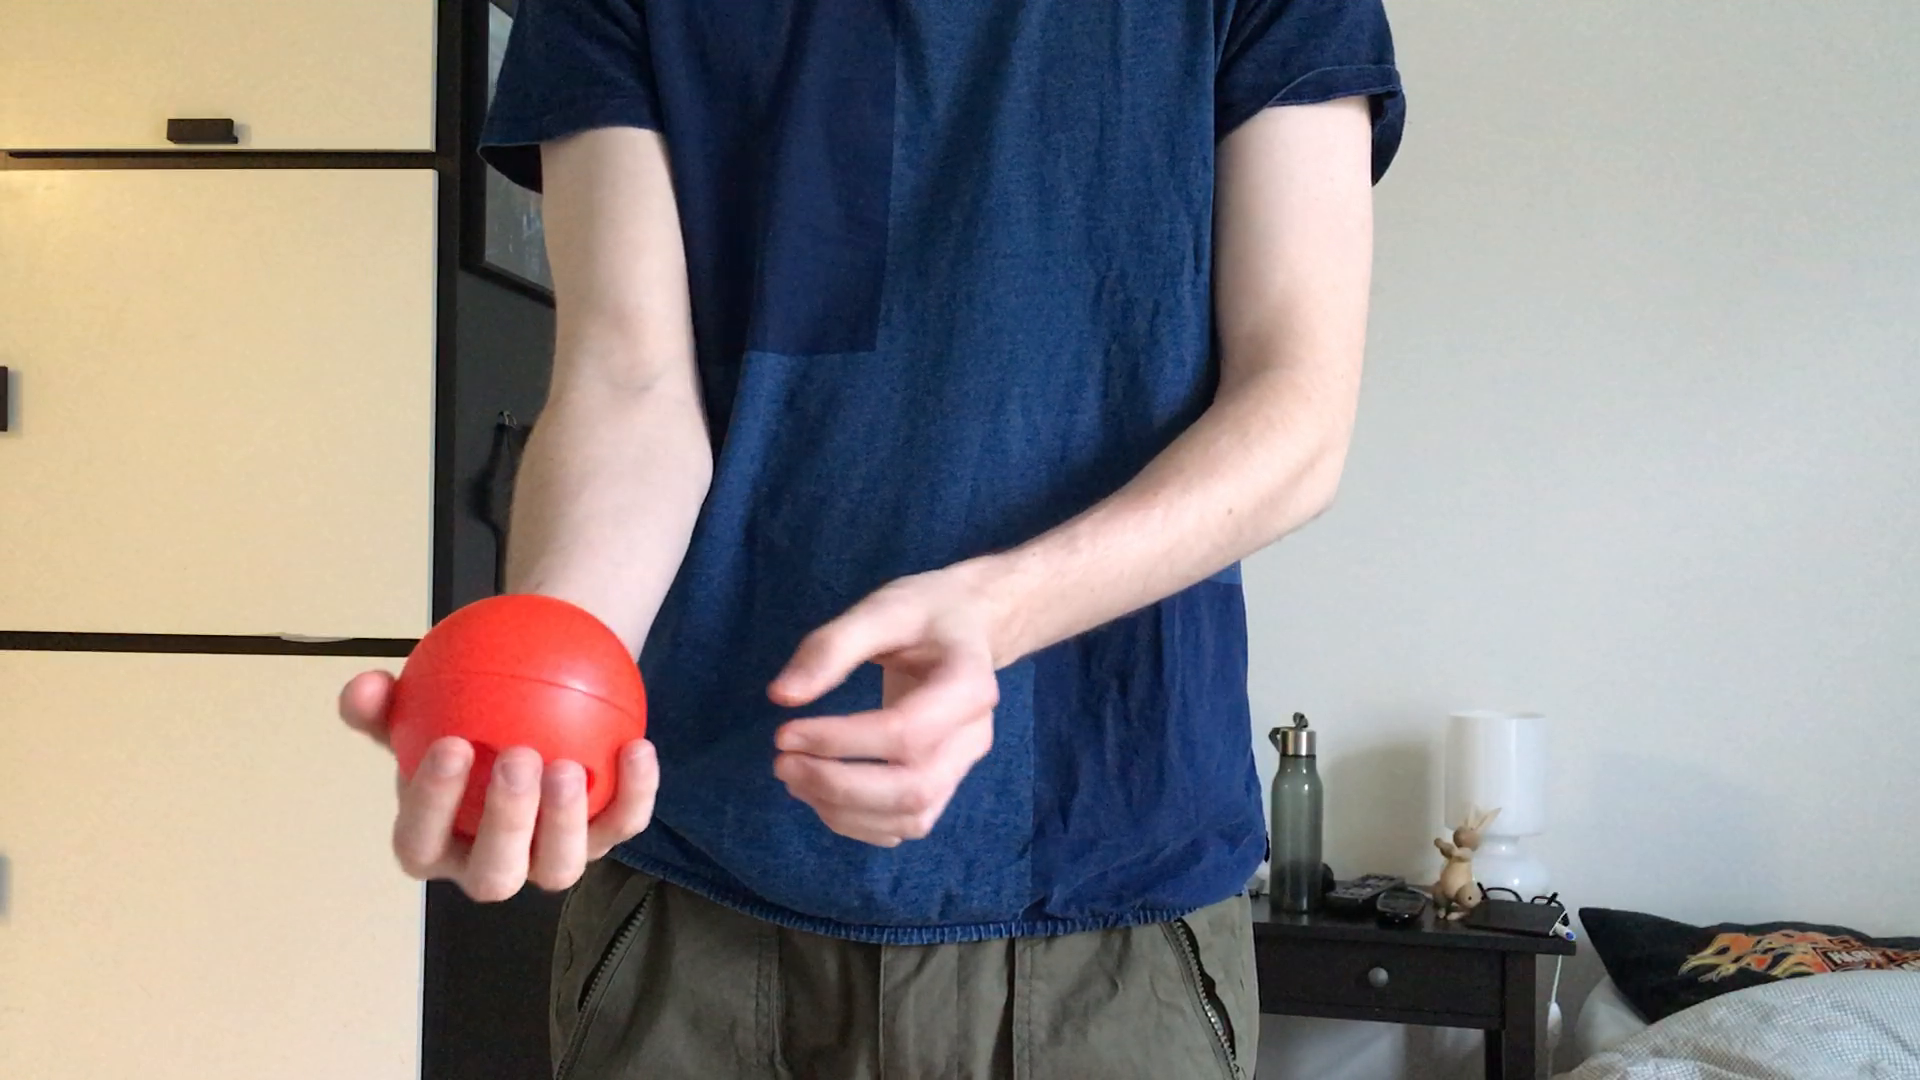Ball: (392, 591, 659, 840)
